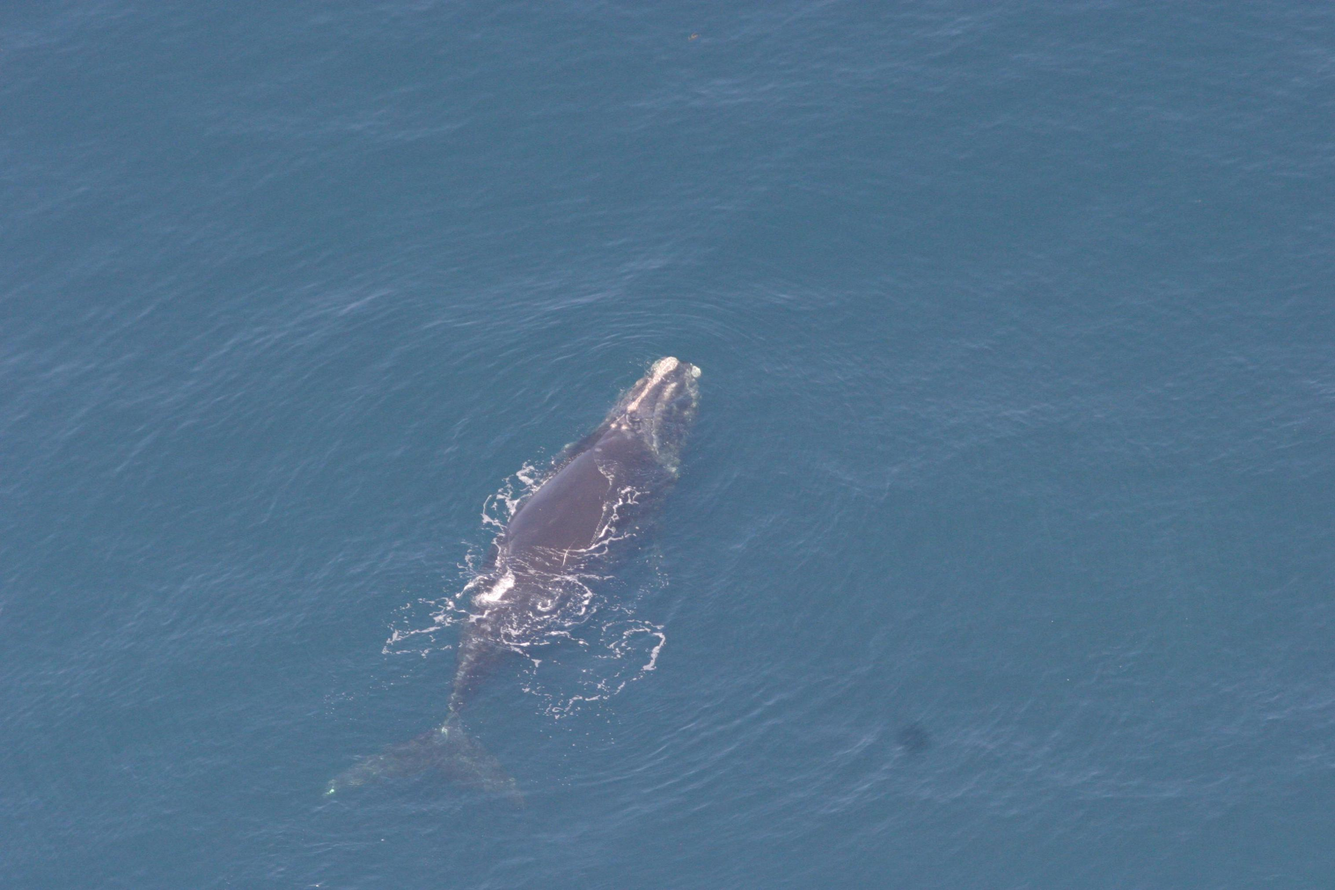whale: (313, 351, 708, 816)
